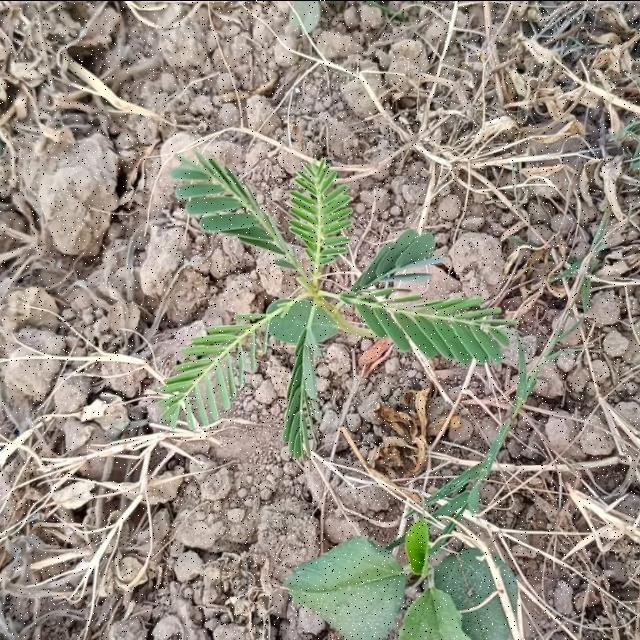plant: (160, 153, 509, 458)
